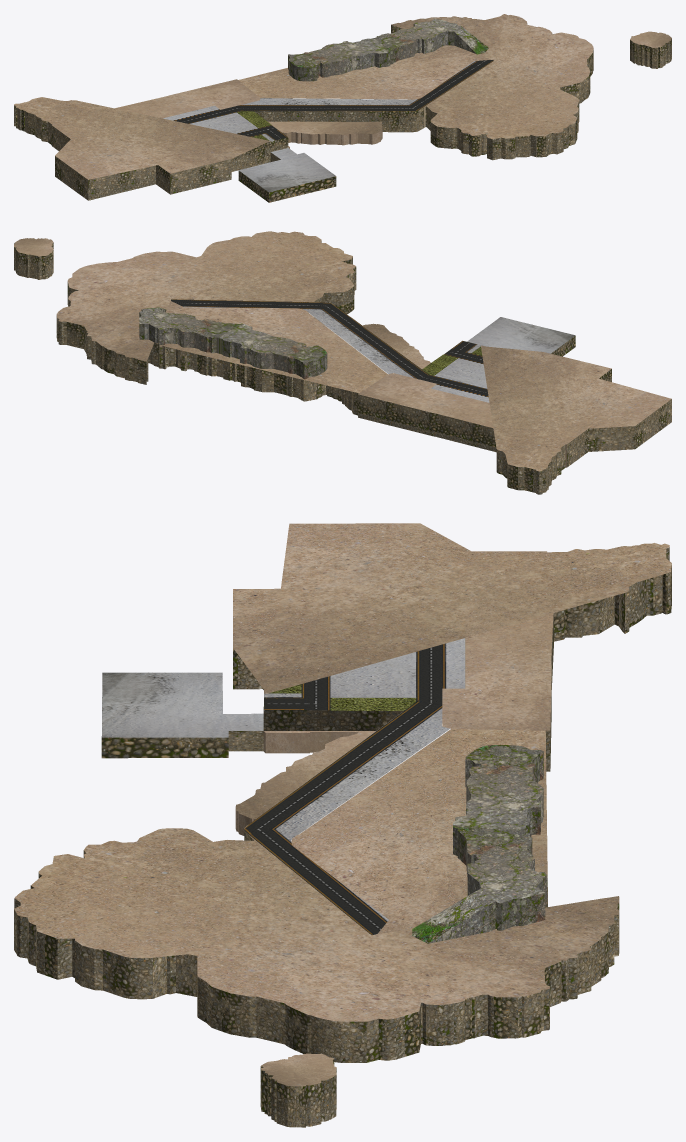
Rendered from Mundo.fbx.
The picture shows the model from 3 angles, top to bottom: view 1: azimuth 30°, elevation 25°; view 2: azimuth 150°, elevation 25°; view 3: azimuth 270°, elevation 25°; orthographic projection. The views are drawn at different scales.
Visible parts, largest first — view 1: Plane.002, Plane.006, Cube, Plane.004, Plane.005, Plane.001; view 2: Plane.002, Cube, Plane.006, Plane.004, Plane.001, Plane.005; view 3: Plane.002, Cube, Plane.006, Plane.004, Plane.001, Plane.005.
Boxes of the visible parts, <box> form: Plane.002: <box>14,14,593,200</box>; Plane.006: <box>288,18,488,81</box>; Cube: <box>163,60,493,141</box>; Plane.004: <box>238,148,336,202</box>; Plane.005: <box>268,121,382,148</box>; Plane.001: <box>630,31,671,68</box>; Plane.002: <box>56,231,671,494</box>; Cube: <box>171,299,489,402</box>; Plane.006: <box>139,307,327,379</box>; Plane.004: <box>467,317,575,356</box>; Plane.001: <box>14,238,53,279</box>; Plane.005: <box>363,323,430,369</box>; Plane.002: <box>14,523,671,1062</box>; Cube: <box>244,638,465,935</box>; Plane.006: <box>412,745,547,943</box>; Plane.004: <box>101,672,263,758</box>; Plane.001: <box>260,1053,336,1127</box>; Plane.005: <box>235,731,375,835</box>.
Bounding box in the file's own units: 1959 × 111 × 967.
9 materials, 9 textured.
